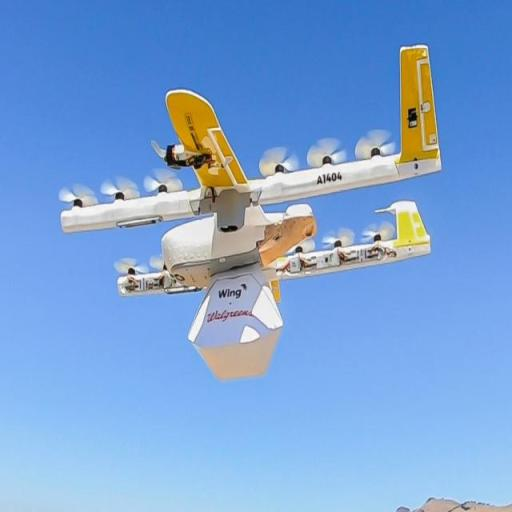uav: (50, 43, 446, 376)
